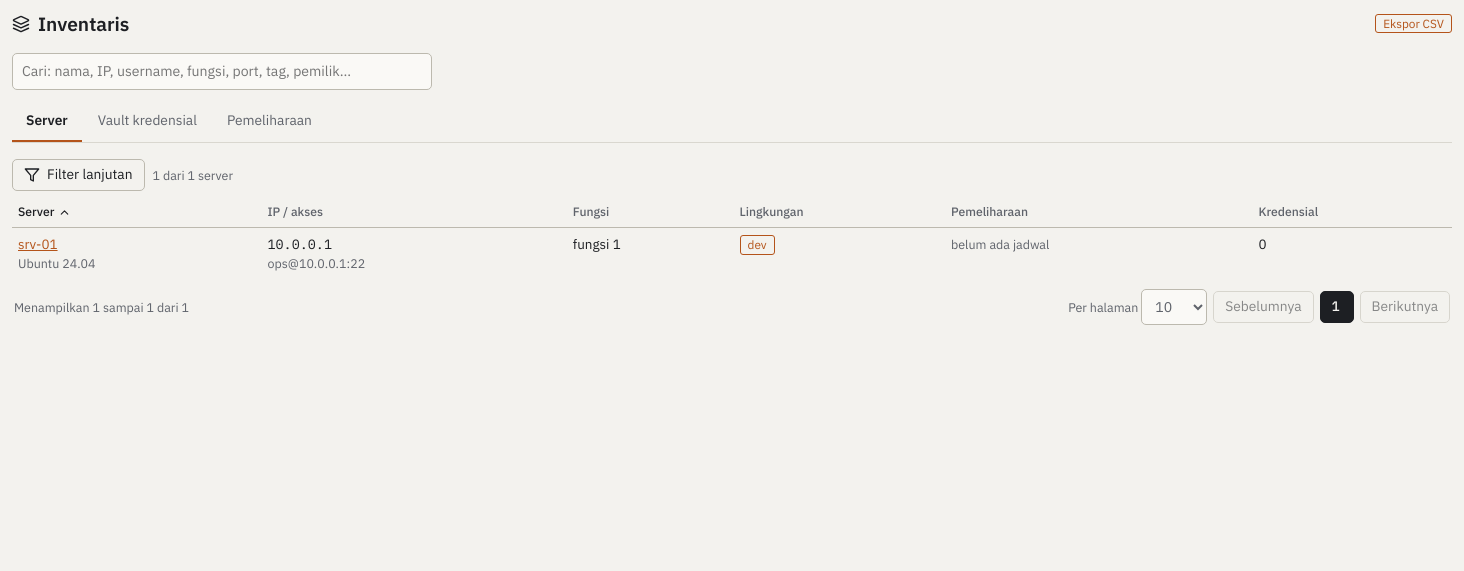
Test: InventoryPage: tabel server › filter yang tidak cocok dengan apa pun menampilkan pesan, bukan tabel kosong
This screenshot has width=1464, height=571.
Expected: the text "1 dari 1 server" is shown, [152,166,233,184]
Click the button "Filter lanjutan" at (78, 175), box [12,159,144,191]
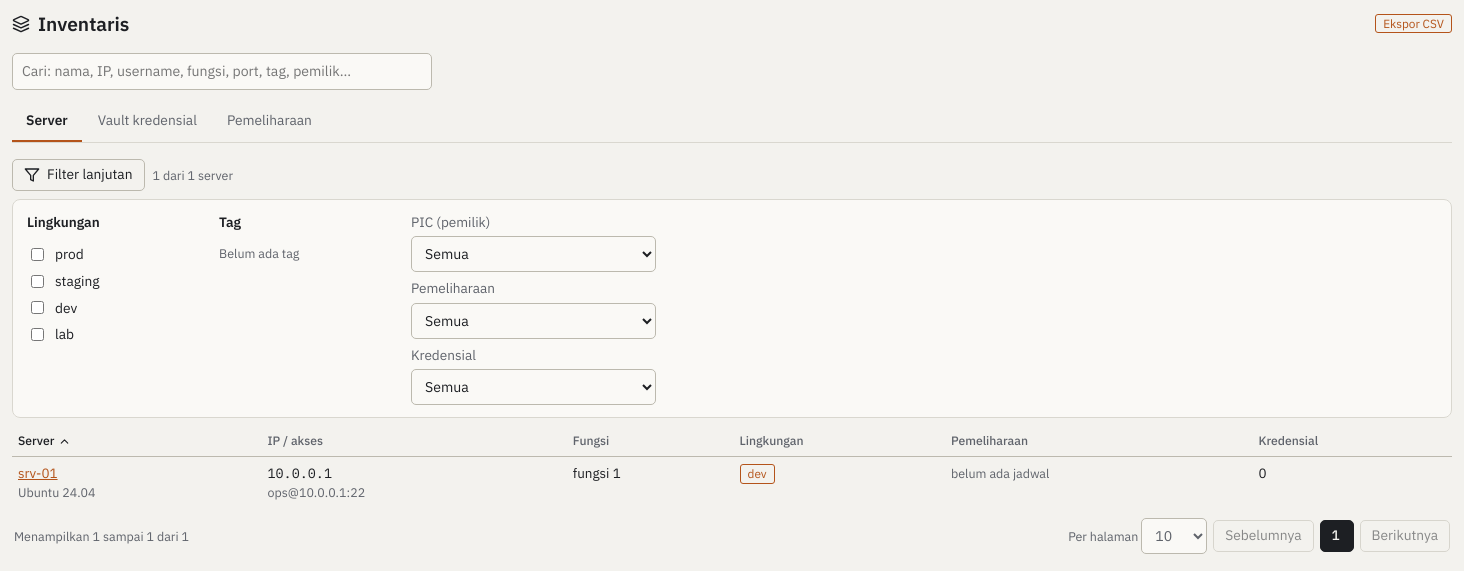
Click the checkbox labelled "prod" at (38, 255), box [31,248,44,261]
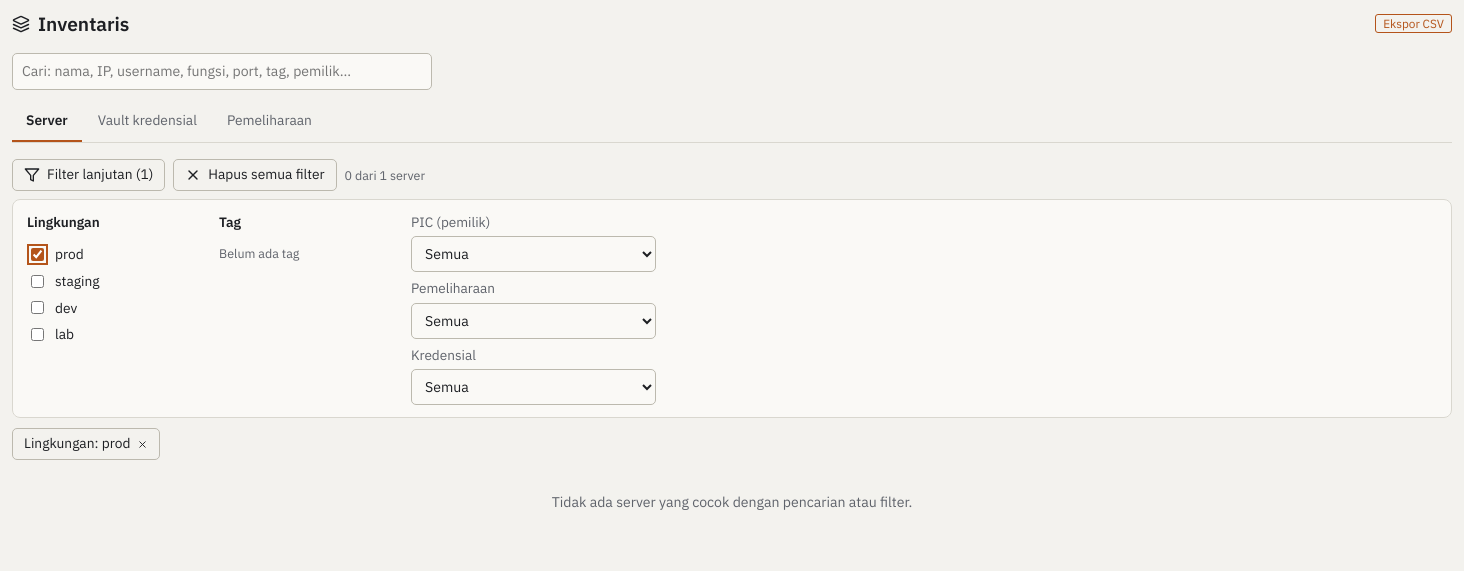
Result: the text "Tidak ada server yang cocok dengan pencarian atau filter." is shown at [552,493,912,511]
